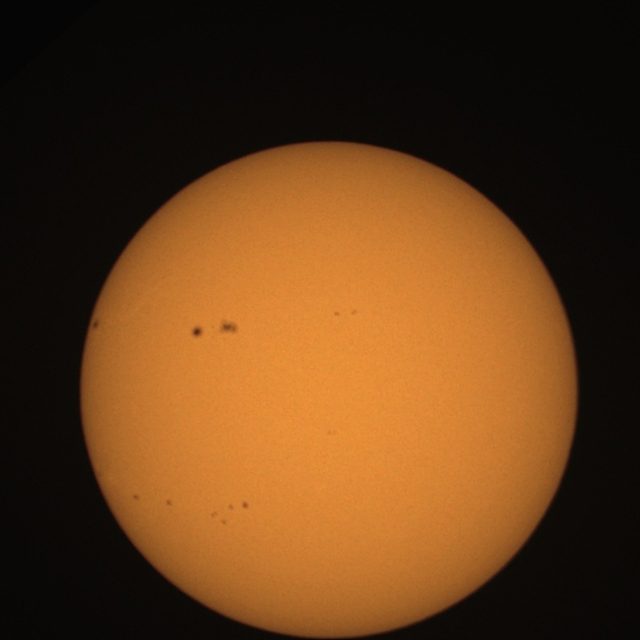sunspot: (198, 320, 239, 339), (211, 505, 231, 526), (226, 500, 250, 512), (190, 324, 204, 340), (91, 319, 100, 332), (350, 308, 361, 317), (241, 500, 250, 510), (165, 498, 173, 508), (132, 493, 140, 502), (333, 310, 341, 318)
